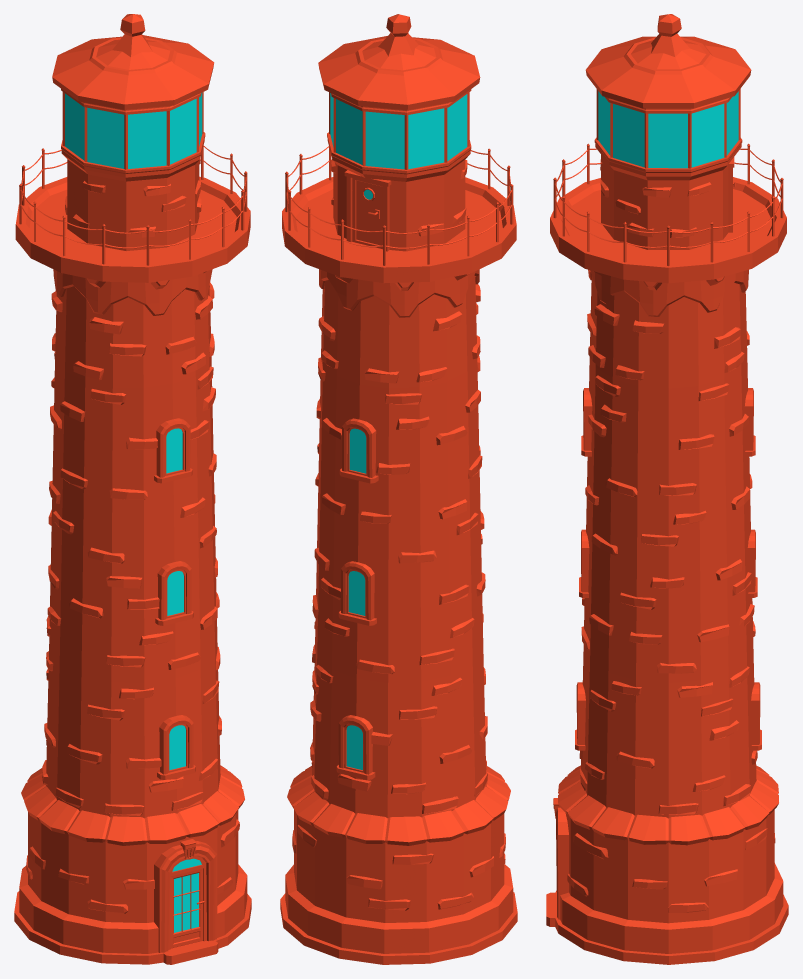
The model's file is SM_Lighthouse_B_City.fbx.
3 views of the same model, side by side, from view 1: azimuth 30°, elevation 25°; view 2: azimuth 150°, elevation 25°; view 3: azimuth 270°, elevation 25° (orthographic).
Visible parts, largest first — view 1: SM_Lighthouse_B_City; view 2: SM_Lighthouse_B_City; view 3: SM_Lighthouse_B_City.
Boxes of the visible parts, x1=… form: SM_Lighthouse_B_City: x1=14, y1=14, x2=251, y2=964; SM_Lighthouse_B_City: x1=280, y1=14, x2=517, y2=964; SM_Lighthouse_B_City: x1=546, y1=14, x2=788, y2=964.
Bounding box in the file's own units: 6.26 × 25.98 × 6.34.
